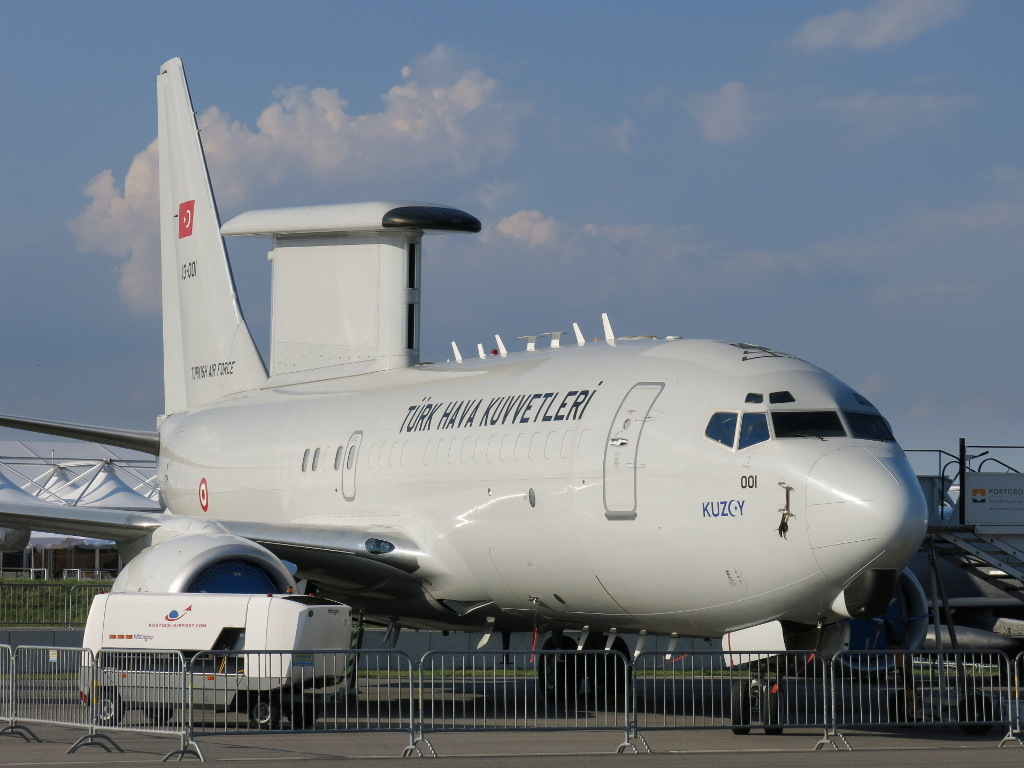airplane: (1, 56, 953, 735)
